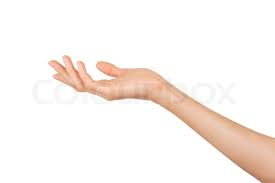hand: (38, 44, 180, 109)
